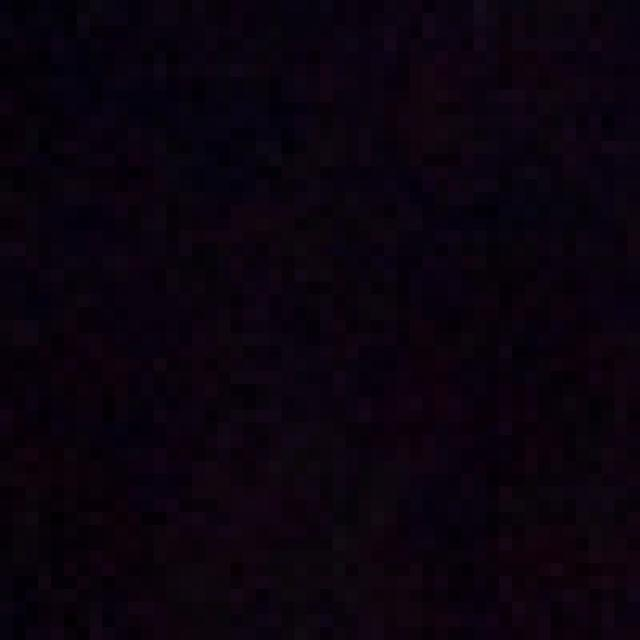no_fire: (36, 69, 640, 601)
